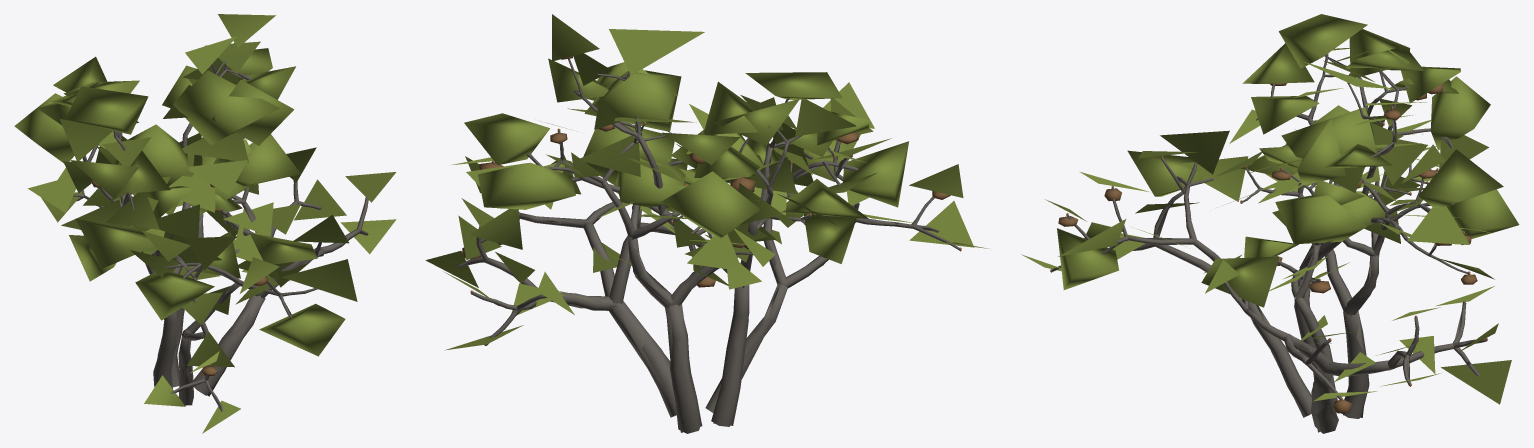
The model's file is scrub_oak_3.glb.
3 renders of one model, left to right at view 1: azimuth 30°, elevation 25°; view 2: azimuth 150°, elevation 25°; view 3: azimuth 270°, elevation 25°, orthographic. The views are drawn at different scales.
Parts seen in each view (by area): view 1: ScrubOak_LOD_Far_Foliage, ScrubOak_LOD_Far_Bark, ScrubOak_LimbWood_0, ScrubOak_LimbWood_3, ScrubOak_LimbWood_2, ScrubOak_LimbWood_1; view 2: ScrubOak_LOD_Far_Foliage, ScrubOak_LOD_Far_Bark, ScrubOak_LimbWood_0, ScrubOak_LimbWood_1, ScrubOak_LimbWood_2, ScrubOak_LimbWood_3; view 3: ScrubOak_LOD_Far_Foliage, ScrubOak_LimbWood_0, ScrubOak_LOD_Far_Bark, ScrubOak_LimbWood_1, ScrubOak_LimbWood_3, ScrubOak_LimbWood_2.
Part boxes in pixels (left/top/right/bottom): ScrubOak_LOD_Far_Foliage: left=14, top=14, right=396, bottom=433; ScrubOak_LOD_Far_Bark: left=81, top=63, right=364, bottom=410; ScrubOak_LimbWood_0: left=193, top=180, right=368, bottom=395; ScrubOak_LimbWood_3: left=165, top=255, right=317, bottom=411; ScrubOak_LimbWood_2: left=82, top=43, right=252, bottom=388; ScrubOak_LimbWood_1: left=73, top=190, right=203, bottom=387; ScrubOak_LOD_Far_Foliage: left=425, top=14, right=989, bottom=350; ScrubOak_LOD_Far_Bark: left=458, top=74, right=949, bottom=432; ScrubOak_LimbWood_0: left=457, top=199, right=706, bottom=417; ScrubOak_LimbWood_1: left=553, top=121, right=813, bottom=433; ScrubOak_LimbWood_2: left=493, top=58, right=834, bottom=426; ScrubOak_LimbWood_3: left=706, top=141, right=959, bottom=412; ScrubOak_LOD_Far_Foliage: left=1021, top=14, right=1519, bottom=404; ScrubOak_LimbWood_0: left=1224, top=243, right=1487, bottom=433; ScrubOak_LOD_Far_Bark: left=1101, top=55, right=1471, bottom=432; ScrubOak_LimbWood_1: left=1242, top=164, right=1436, bottom=418; ScrubOak_LimbWood_3: left=1051, top=158, right=1311, bottom=416; ScrubOak_LimbWood_2: left=1256, top=53, right=1468, bottom=400.
Size of what is drawn, in the model's own units: 3.85 by 3.52 by 4.22.
